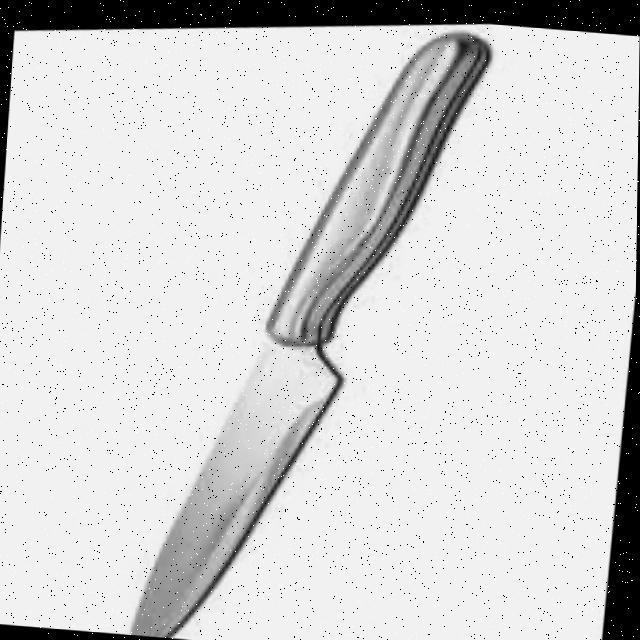knife: (129, 3, 495, 640)
